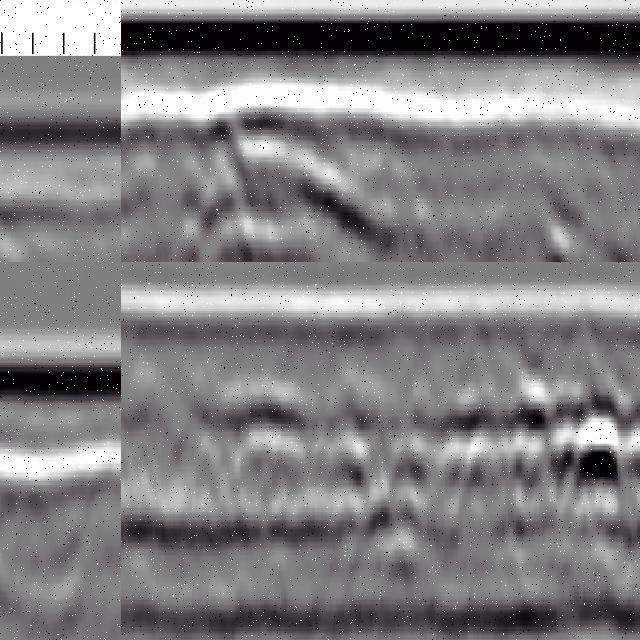loose: (228, 386, 640, 524), (122, 93, 386, 263), (1, 439, 122, 640)
